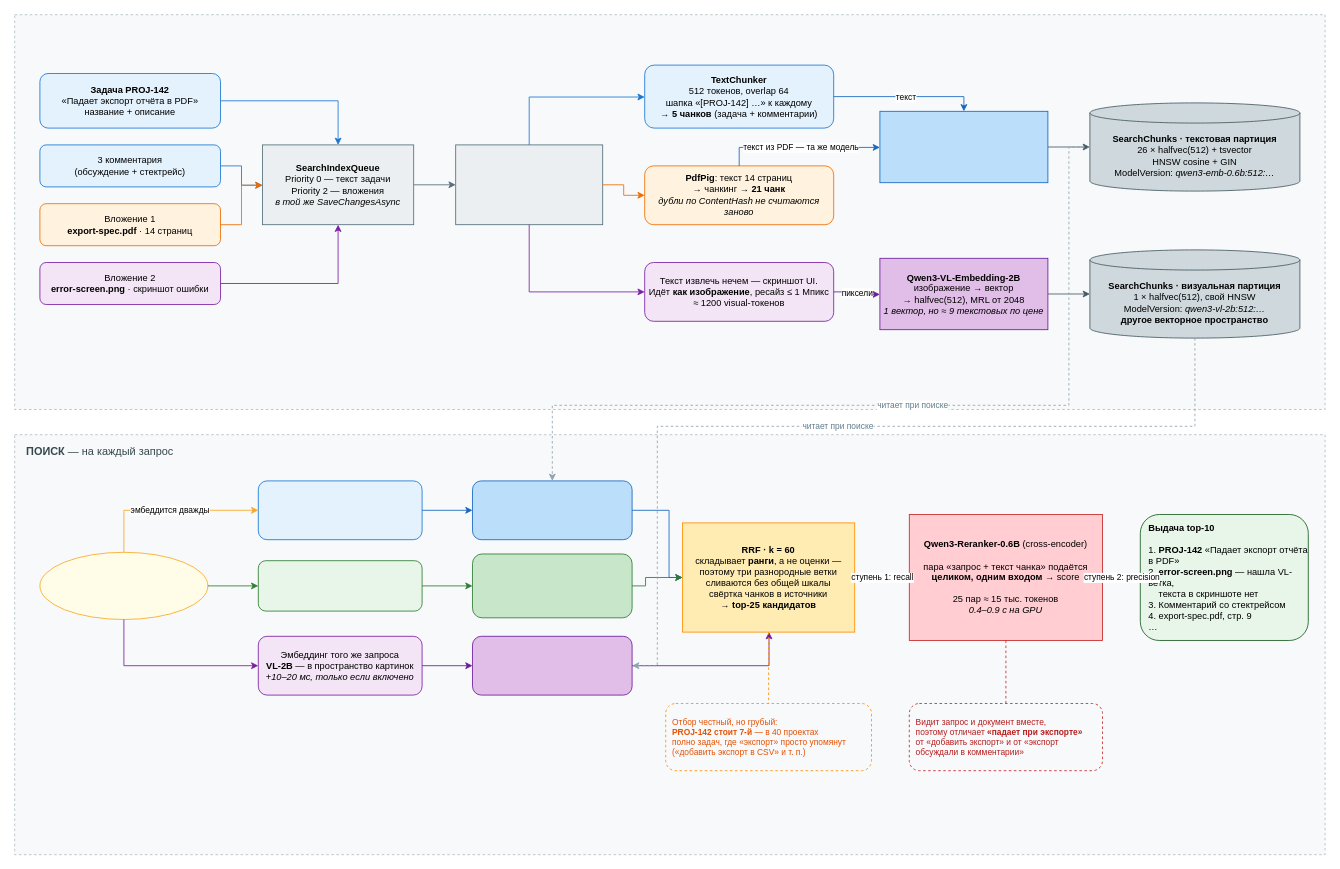
This 1340x869 diagram has some shape labels left out. Each missing label, with the box of its shape:
Flow.Worker извлечение текста, чанкинг, батчи по 32 2–4 реплики: (455, 144, 603, 225)
GIN · tsvector, ts_rank_cd top-50 · 20–250 мс ловит точные «PROJ-142», «PDF»: (472, 553, 632, 618)
HNSW · визуальная партиция top-20 · 3–8 мс: (472, 635, 632, 695)
HNSW · текстовая партиция top-50 · 3–35 мс: (472, 480, 632, 540)
Qwen3-Embedding-0.6B pooling последнего токена + L2 → halfvec(512) 26 векторов: (879, 110, 1048, 183)
websearch_to_tsquery('russian') без инференса: (257, 560, 422, 611)
Запрос пользователя «падает экспорт в пдф»: (39, 551, 208, 620)
ИНДЕКСАЦИЯ — один раз при сохранении задачи и вложений (Flow.Worker): (14, 14, 1325, 410)
Эмбеддинг запроса 0.6B + Instruct-префикс 3–8 мс, кэш → 0: (257, 480, 422, 540)
